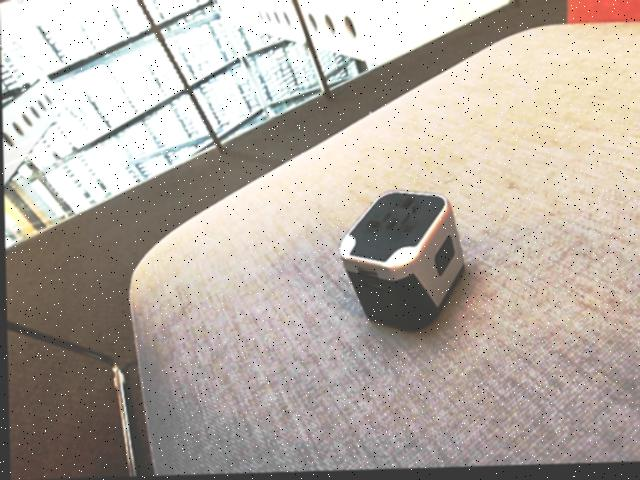adapter: (336, 189, 465, 336)
